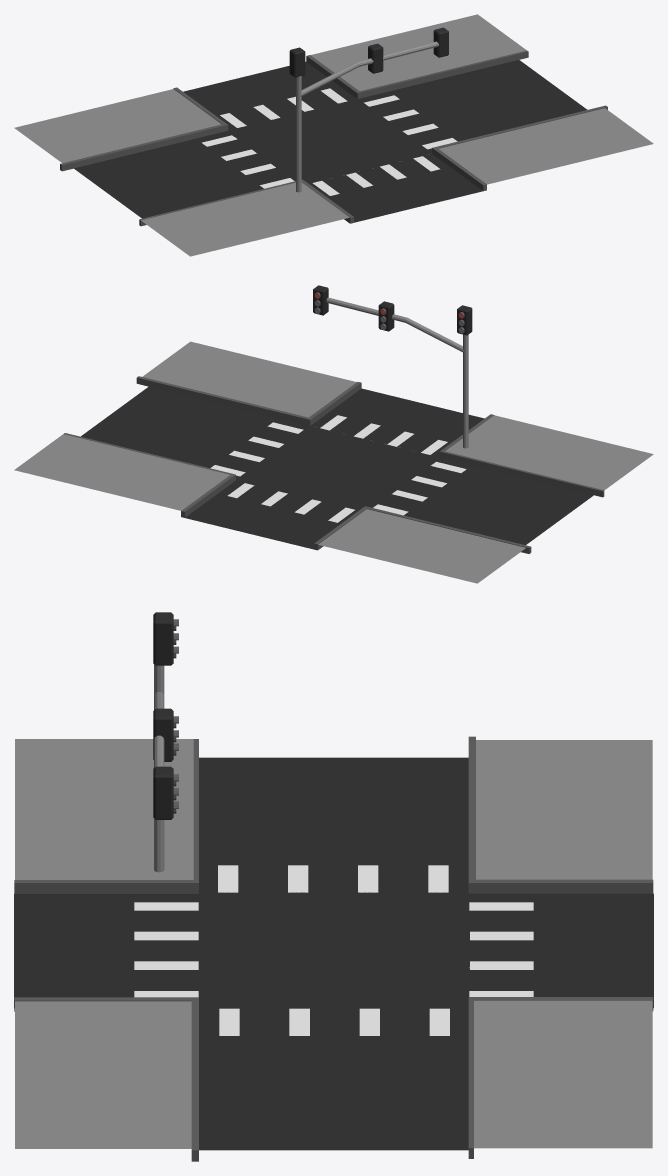
The model's file is RoadTown_Crossroad.fbx.
3 views of the same model, one above another, from view 1: azimuth 30°, elevation 25°; view 2: azimuth 150°, elevation 25°; view 3: azimuth 270°, elevation 25° (orthographic). The views are drawn at different scales.
Parts seen in each view (by area): view 1: Road, Cube, Plane.002, Border.001, Border, Cylinder, BorderLeft, Cylinder.009, Cylinder.001, Cylinder.005; view 2: Road, Border.001, Plane.002, Border, Cube, Cylinder, BorderLeft; view 3: Road, Cube, Plane.002, Border.001, Border, BorderRight, Cylinder, Cylinder.009, Cylinder.005, BorderLeft, Cylinder.001.
Boxes of the visible parts, box(x1,y1,x2,y2) form: Road: box(74, 60, 587, 222); Cube: box(14, 87, 228, 171); Plane.002: box(306, 14, 528, 98); Border.001: box(432, 105, 653, 184); Border: box(139, 181, 349, 256); Cylinder: box(296, 41, 438, 192); BorderLeft: box(434, 148, 486, 190); Cylinder.009: box(289, 47, 305, 77); Cylinder.001: box(368, 43, 383, 73); Cylinder.005: box(433, 27, 448, 57); Road: box(81, 386, 593, 549); Border.001: box(136, 341, 356, 425); Plane.002: box(14, 433, 235, 517); Border: box(443, 415, 653, 497); Cube: box(314, 506, 531, 583); Cylinder: box(326, 297, 468, 448); BorderLeft: box(309, 382, 361, 423); Road: box(14, 757, 653, 1150); Cube: box(468, 736, 653, 893); Plane.002: box(468, 997, 653, 1158); Border.001: box(15, 997, 198, 1161); Border: box(15, 739, 198, 879); BorderRight: box(14, 880, 198, 893); Cylinder: box(154, 664, 164, 872); Cylinder.009: box(153, 612, 173, 665); Cylinder.005: box(153, 766, 173, 819); BorderLeft: box(14, 997, 191, 1011); Cylinder.001: box(153, 708, 173, 761).
Size of the model in its own units: 6268 by 1867 by 4096.
2 materials, 2 textured.
